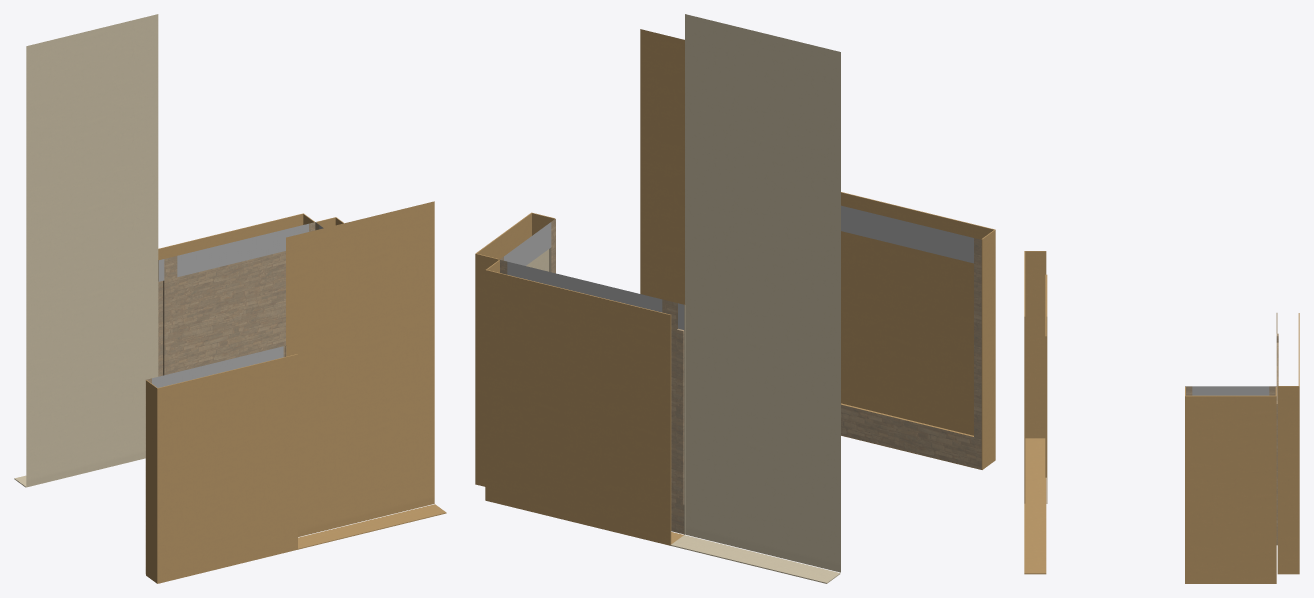
File: unit-link-south-east.glb
3 views of the same model, side by side, from view 1: azimuth 30°, elevation 25°; view 2: azimuth 150°, elevation 25°; view 3: azimuth 270°, elevation 25° (orthographic). The views are drawn at different scales.
Visible parts, largest first — view 1: bz06_faded_ochre-cast, bz06_pale_lime-cast, bz06_service_stone-cast, ph_bz04_stone_trim_sandstone-cast; view 2: bz06_faded_ochre-cast, bz06_pale_lime-cast, bz06_service_stone-cast, ph_bz04_stone_trim_sandstone-cast; view 3: bz06_faded_ochre-cast, ph_bz04_stone_trim_sandstone-cast, bz06_service_stone-cast.
Part boxes in pixels (x1,y1,x2,y2): bz06_faded_ochre-cast: [146, 201, 446, 583]; bz06_pale_lime-cast: [14, 14, 158, 487]; bz06_service_stone-cast: [145, 222, 319, 573]; ph_bz04_stone_trim_sandstone-cast: [152, 223, 323, 387]; bz06_faded_ochre-cast: [475, 29, 995, 545]; bz06_pale_lime-cast: [526, 14, 840, 583]; bz06_service_stone-cast: [500, 218, 981, 534]; ph_bz04_stone_trim_sandstone-cast: [504, 205, 973, 330]; bz06_faded_ochre-cast: [1024, 251, 1299, 583]; ph_bz04_stone_trim_sandstone-cast: [1192, 386, 1269, 395]; bz06_service_stone-cast: [1185, 333, 1278, 545].
Bounding box in the file's own units: 7.5 × 10.22 × 6.
4 materials, 3 textured.
